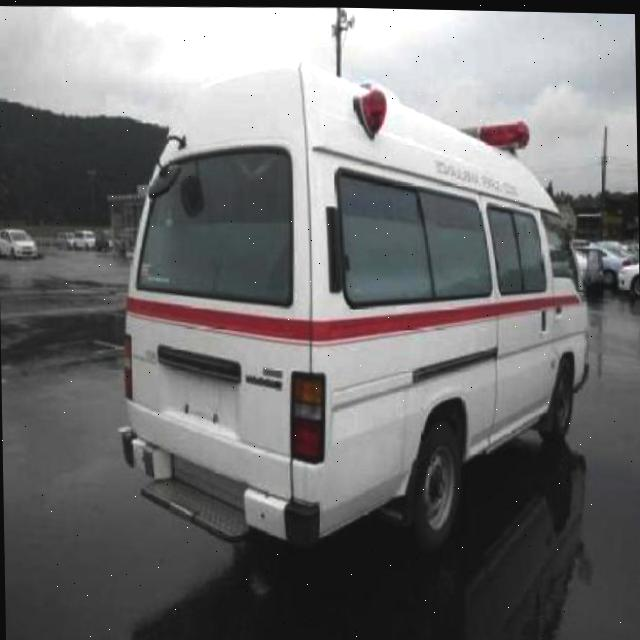emergency: (103, 47, 586, 558)
